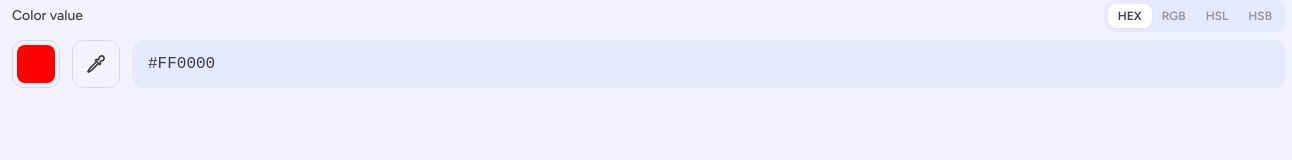
it: ColorInput › converts the current color when switching formats
Click the button "RGB".
click(1174, 16)  # box x1=1152 y1=4 x2=1196 y2=28
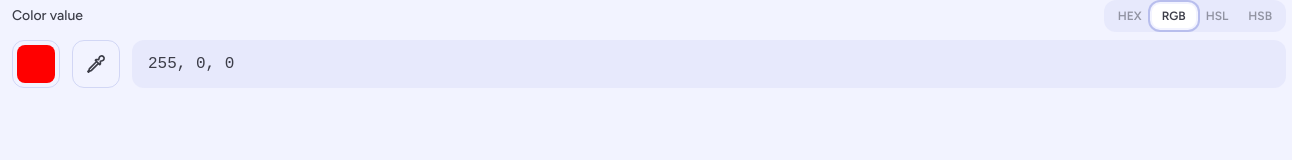
Now the field labelled "Color value" holds "255, 0, 0", box x1=132 y1=40 x2=1286 y2=88
